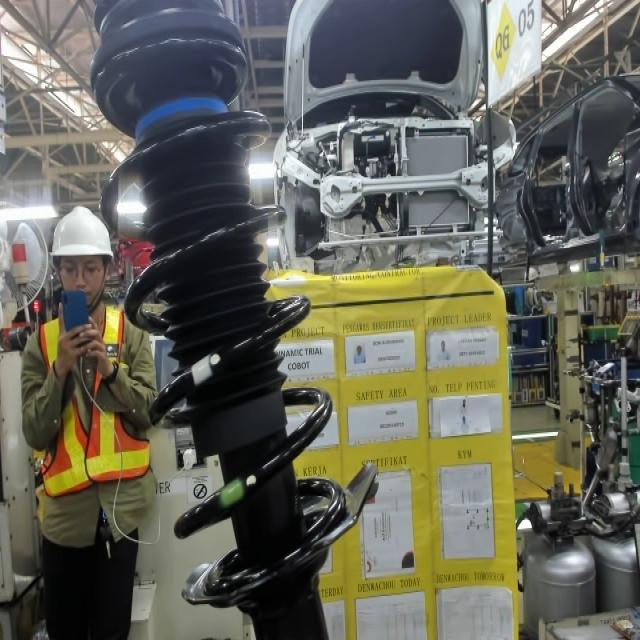Bumper-BR: (121, 89, 238, 147)
